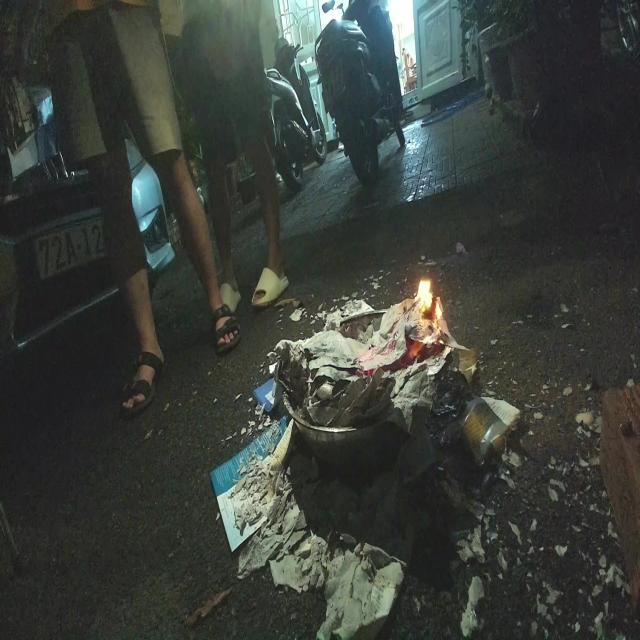Fire: (416, 270, 444, 332)
